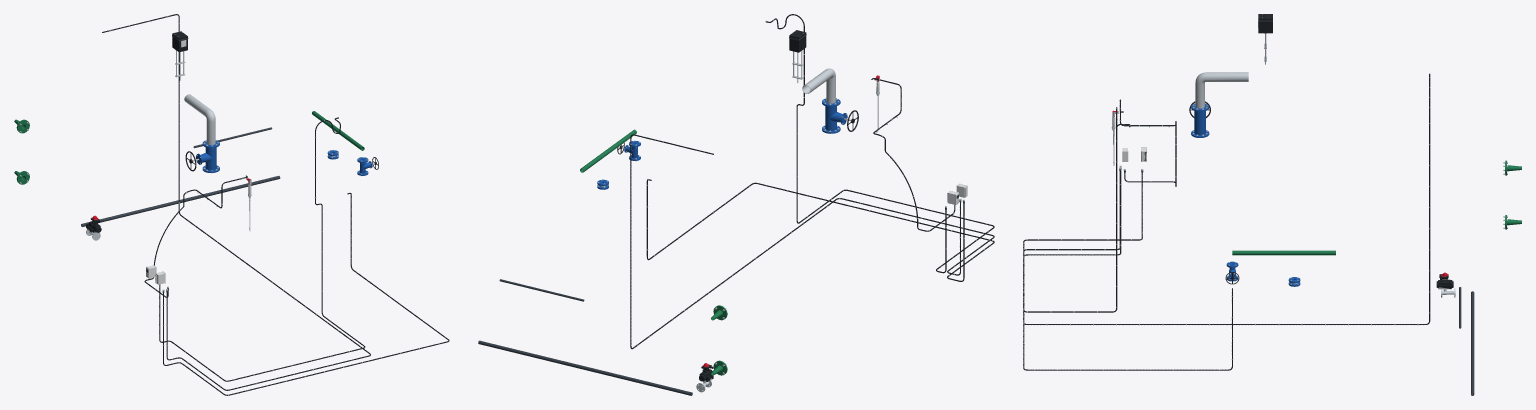
3 renders of one model, left to right at view 1: azimuth 30°, elevation 25°; view 2: azimuth 150°, elevation 25°; view 3: azimuth 270°, elevation 25°, orthographic. The views are drawn at different scales.
Visible parts, largest first — view 1: mod_eco_drive_cable / black, wiring_pressure_switch_3 / black, wiring_pump_1 / black, bottom_discharge / dark, steam_rise / steel, steam_manual / blue; view 2: mod_eco_drive_cable / black, wiring_pressure_switch_3 / black, wiring_pump_1 / black, bottom_discharge / dark, steam_rise / steel, steam_manual / blue, wiring_low_level_2 / black; view 3: mod_eco_drive_cable / black, wiring_pressure_switch_3 / black, wiring_pump_1 / black, steam_rise / steel, pump_delivery / green, steam_manual / blue.
Boxes of the visible parts, x1,y1,x2,y2 form: mod_eco_drive_cable / black: (102, 14, 370, 390); wiring_pressure_switch_3 / black: (159, 118, 365, 381); wiring_pump_1 / black: (163, 193, 449, 395); bottom_discharge / dark: (81, 176, 280, 226); steam_rise / steel: (184, 94, 215, 144); steam_manual / blue: (196, 140, 219, 172); mod_eco_drive_cable / black: (630, 134, 994, 349); wiring_pressure_switch_3 / black: (767, 14, 994, 273); wiring_pump_1 / black: (646, 179, 994, 281); bottom_discharge / dark: (478, 340, 692, 395); steam_rise / steel: (802, 68, 835, 103); steam_manual / blue: (822, 98, 847, 133); wiring_low_level_2 / black: (871, 78, 955, 231); mod_eco_drive_cable / black: (1023, 73, 1430, 324); wiring_pressure_switch_3 / black: (1023, 107, 1142, 312); wiring_pump_1 / black: (1023, 171, 1232, 370); steam_rise / steel: (1195, 72, 1248, 108); pump_delivery / green: (1232, 250, 1335, 255); steam_manual / blue: (1191, 103, 1209, 137).
Bounding box in the file's own units: 4.24 × 3.75 × 6.03.
